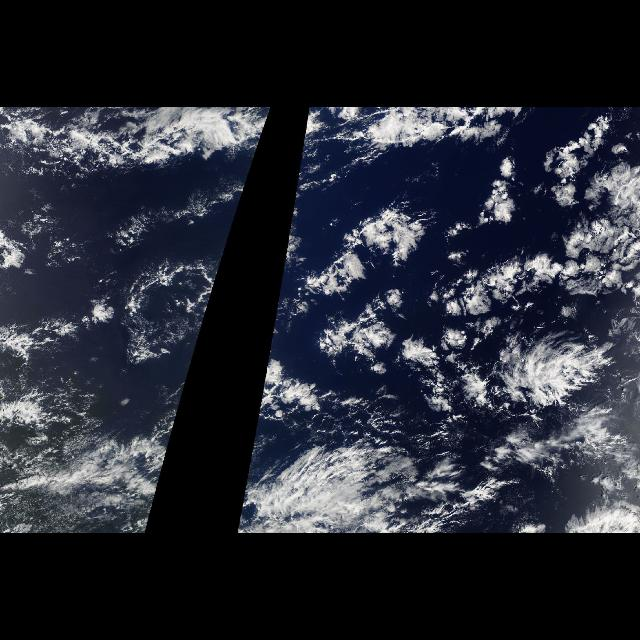Fish: (237, 338, 628, 532), (30, 338, 198, 532), (1, 108, 273, 180), (295, 108, 529, 180)
Flower: (277, 132, 639, 432)
